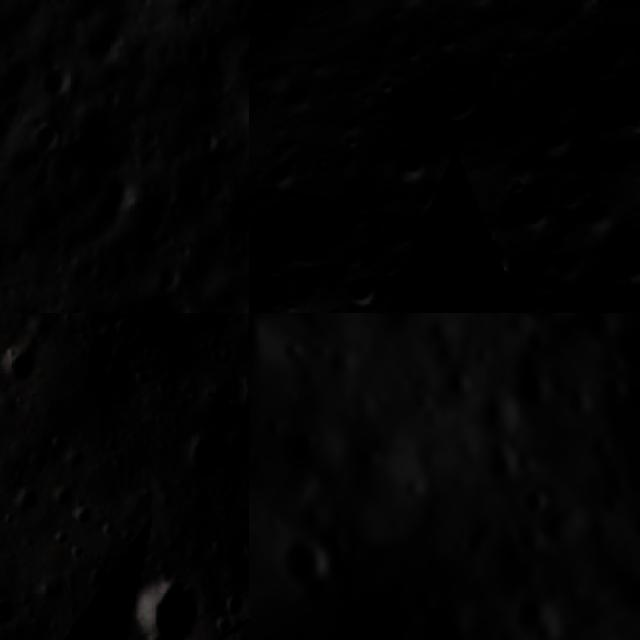crater: (249, 190, 340, 313), (440, 219, 542, 313), (262, 512, 351, 605), (577, 58, 640, 156), (428, 72, 493, 137), (533, 104, 596, 168), (548, 158, 610, 223), (132, 578, 196, 640), (473, 313, 608, 342), (382, 134, 444, 194), (507, 183, 565, 240), (587, 356, 640, 409), (176, 427, 230, 478), (509, 475, 561, 527), (601, 313, 640, 380), (344, 264, 396, 313), (261, 145, 310, 196), (71, 313, 149, 340), (125, 284, 194, 313), (0, 343, 42, 385), (613, 243, 640, 297), (338, 124, 374, 160), (560, 0, 611, 18), (49, 482, 77, 511), (0, 591, 21, 628), (72, 506, 98, 532)
